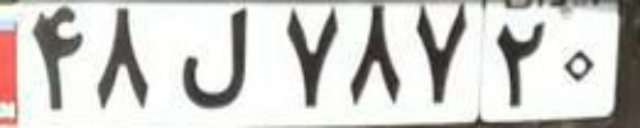0: (558, 50, 598, 81)
2: (494, 22, 546, 107)
4: (29, 5, 90, 111)
7: (287, 5, 339, 108), (416, 0, 467, 104)
8: (95, 8, 155, 108), (347, 5, 399, 105)
lam: (182, 10, 253, 108)
